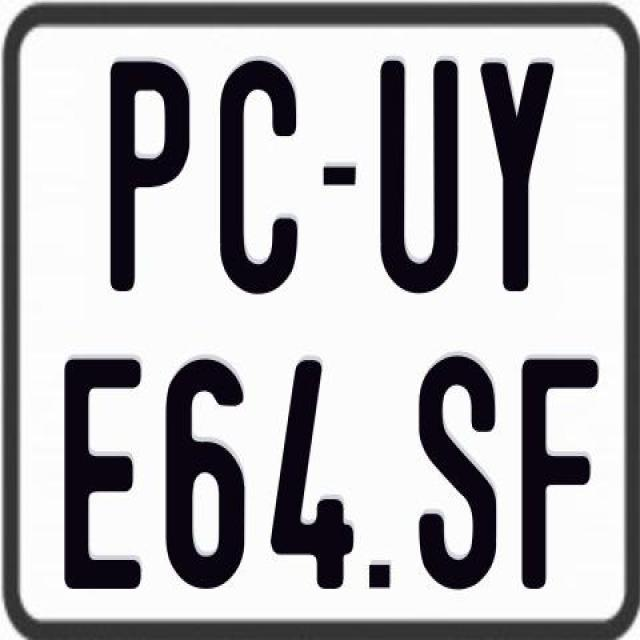4: (269, 358, 356, 588)
6: (162, 358, 242, 598)
C: (220, 57, 303, 300)
E: (64, 355, 150, 586)
F: (520, 358, 603, 598)
P: (106, 59, 188, 293)
S: (414, 354, 500, 588)
U: (378, 58, 461, 294)
Y: (480, 61, 555, 296)
